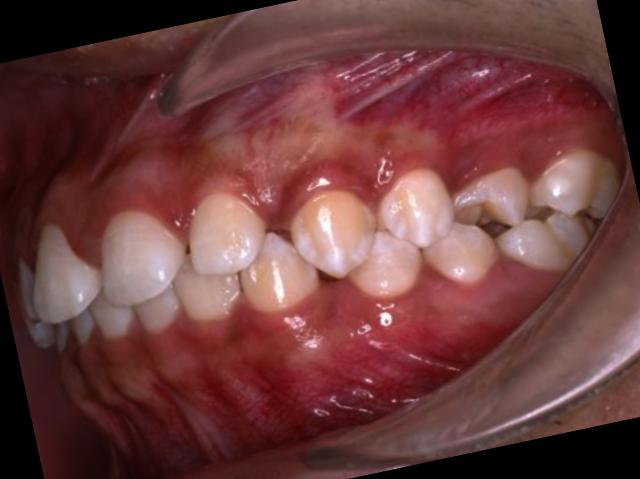canine class I: (217, 168, 430, 335)
molar class III 1/2: (486, 141, 640, 289)
